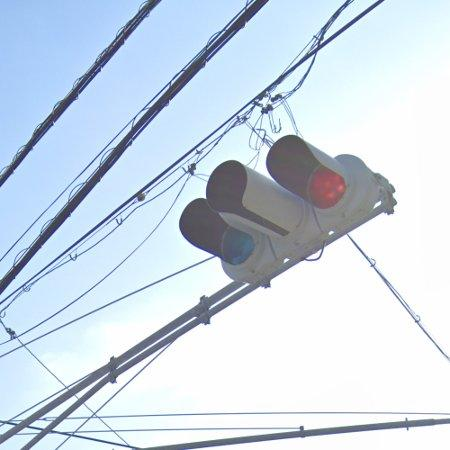traffic lights: (180, 135, 398, 283)
